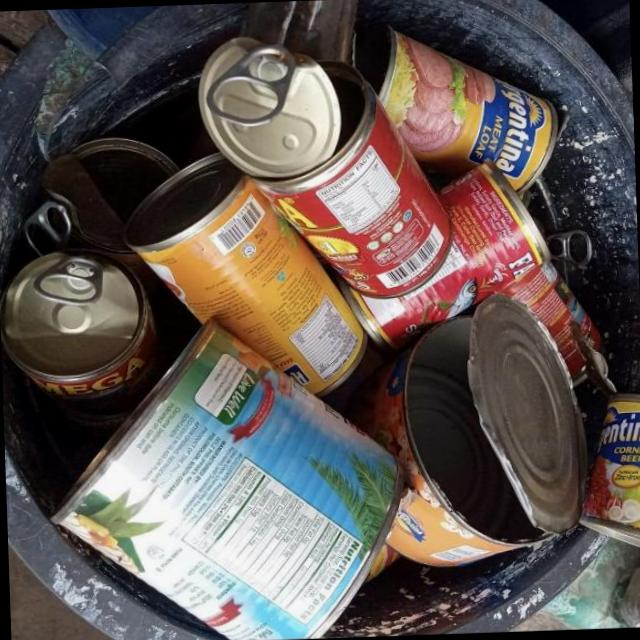nhom: (50, 317, 404, 640), (197, 35, 452, 298), (349, 293, 587, 566), (122, 151, 368, 396), (322, 161, 550, 353), (356, 23, 559, 193), (0, 249, 158, 436), (23, 136, 177, 293), (569, 320, 640, 547)
